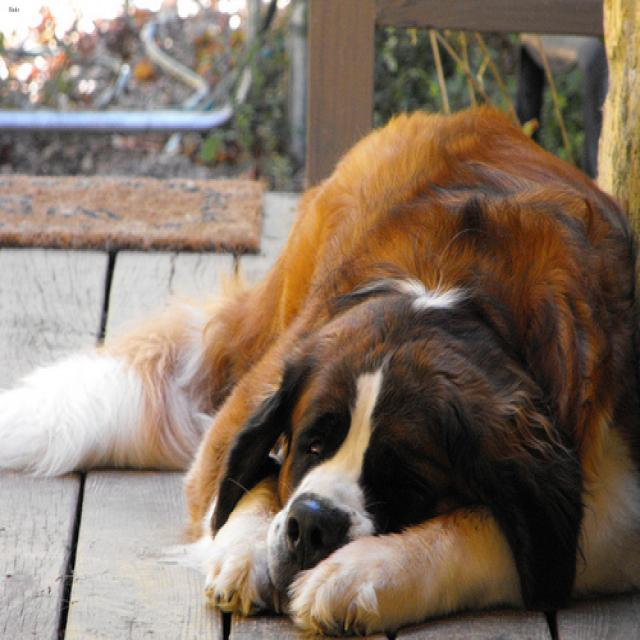dog-saint_bernard: (1, 102, 637, 637)
